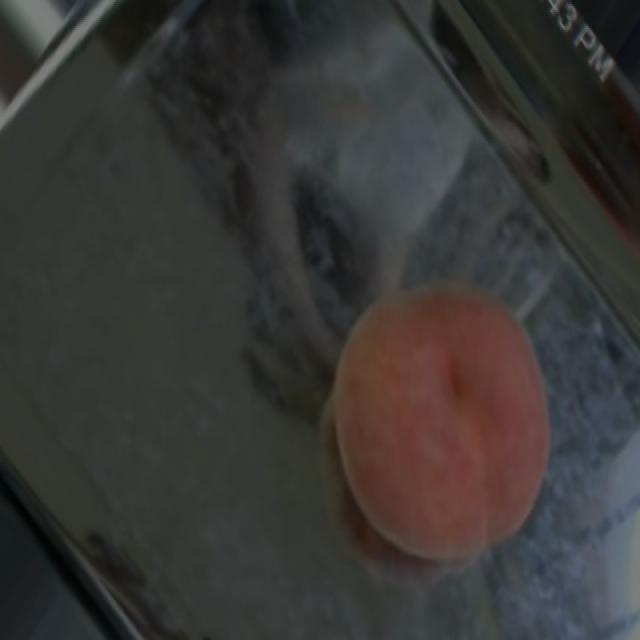Fruit: (293, 242, 583, 594)
